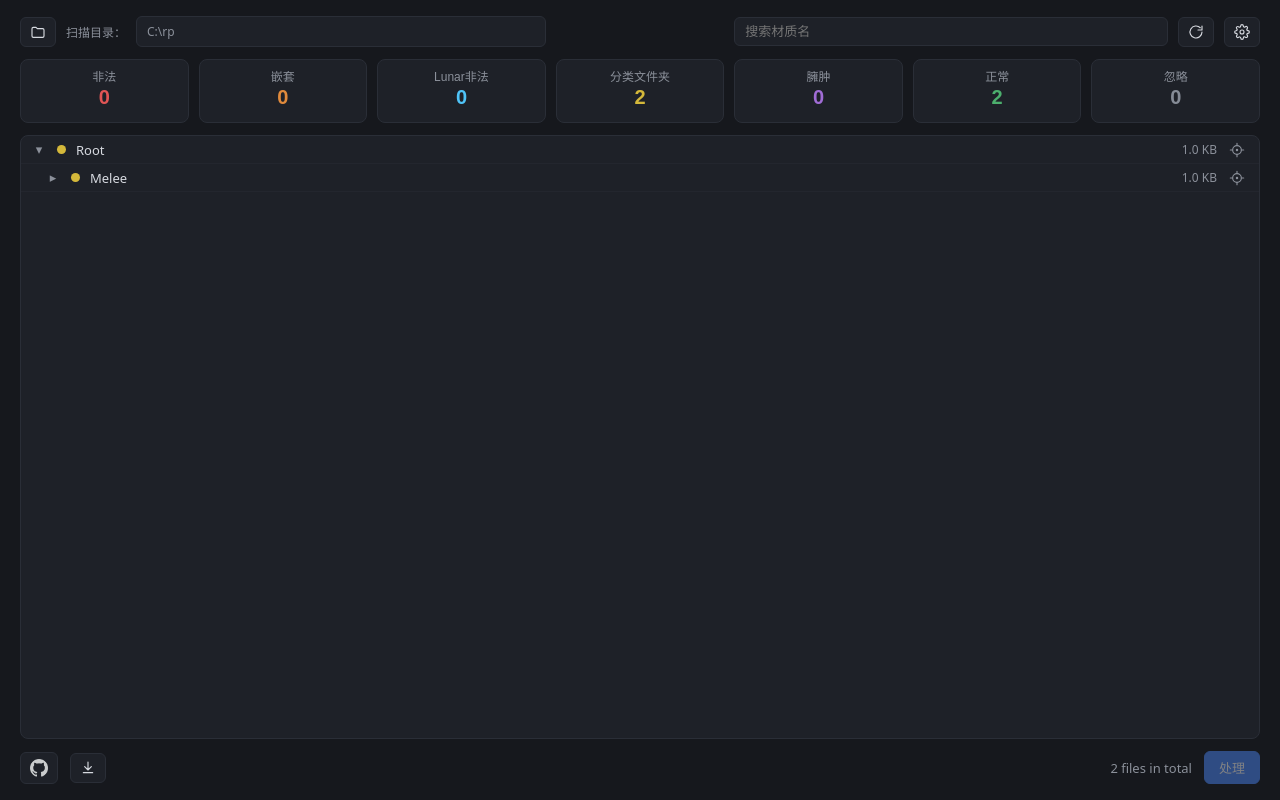
Test: folder expansion survives view filters and resets after a rescan
The image size is (1280, 800).
Expected: the text "Melee" is shown, 90,168 -> 127,186
Click the button named "展开 Melee".
click(53, 178)  # box 45,170 -> 61,185
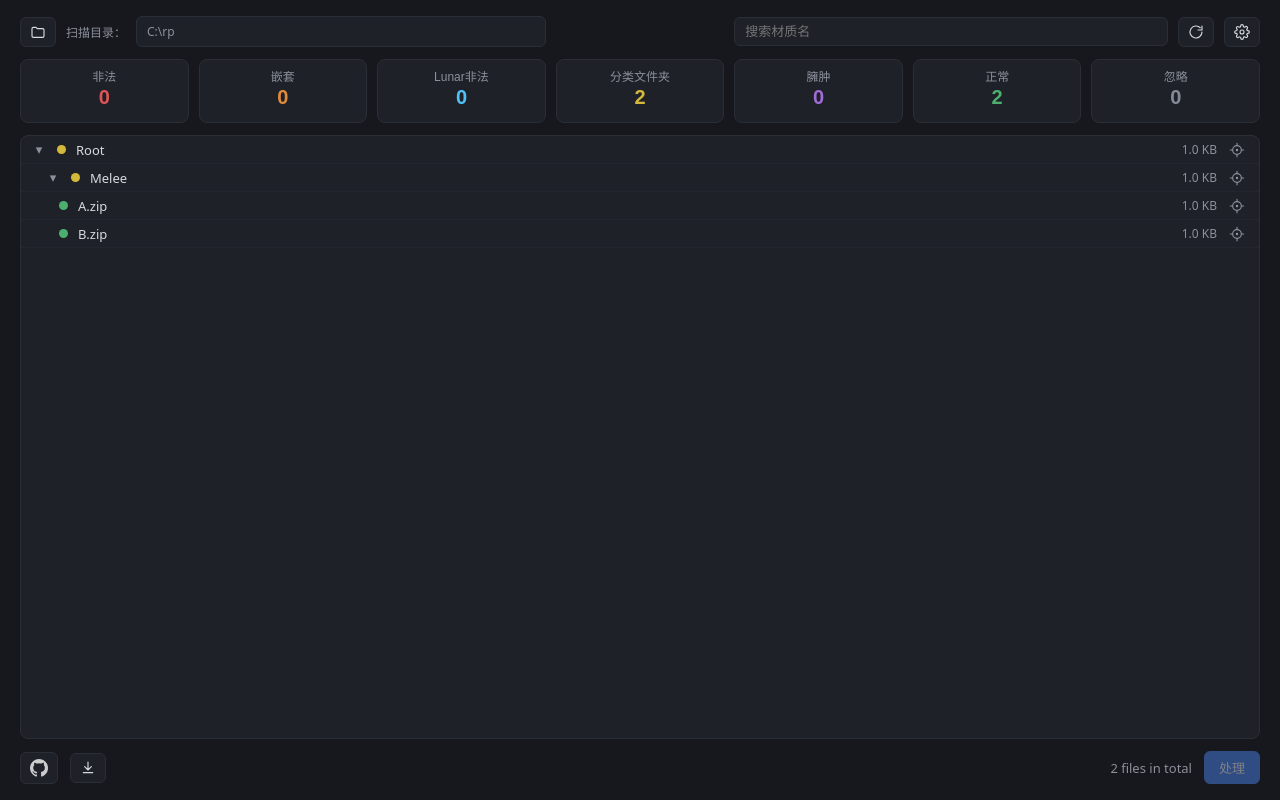
Expected: the text "A.zip" is shown, 78,196 -> 107,214
Click the button "正常 2".
click(997, 91)  # box 913,59 -> 1082,123
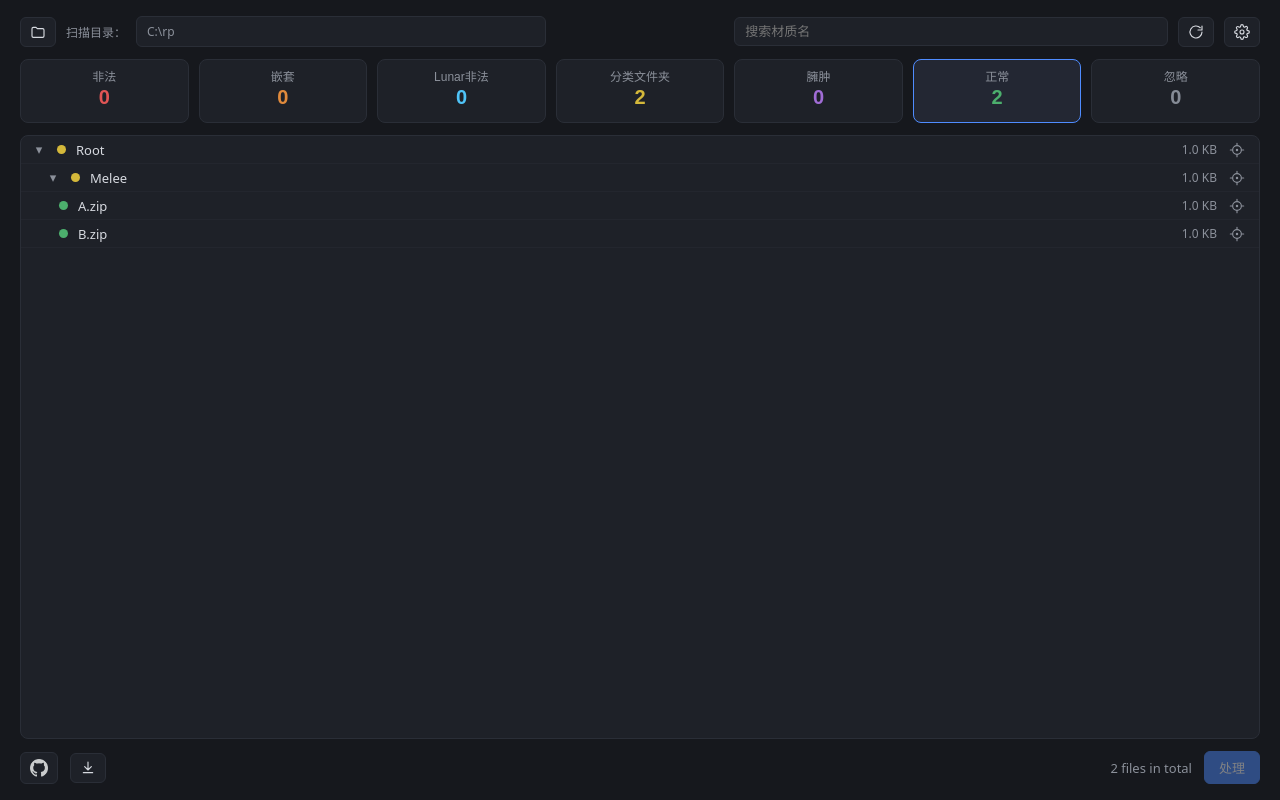
Click the button "正常 2".
click(997, 91)  # box 913,59 -> 1082,123
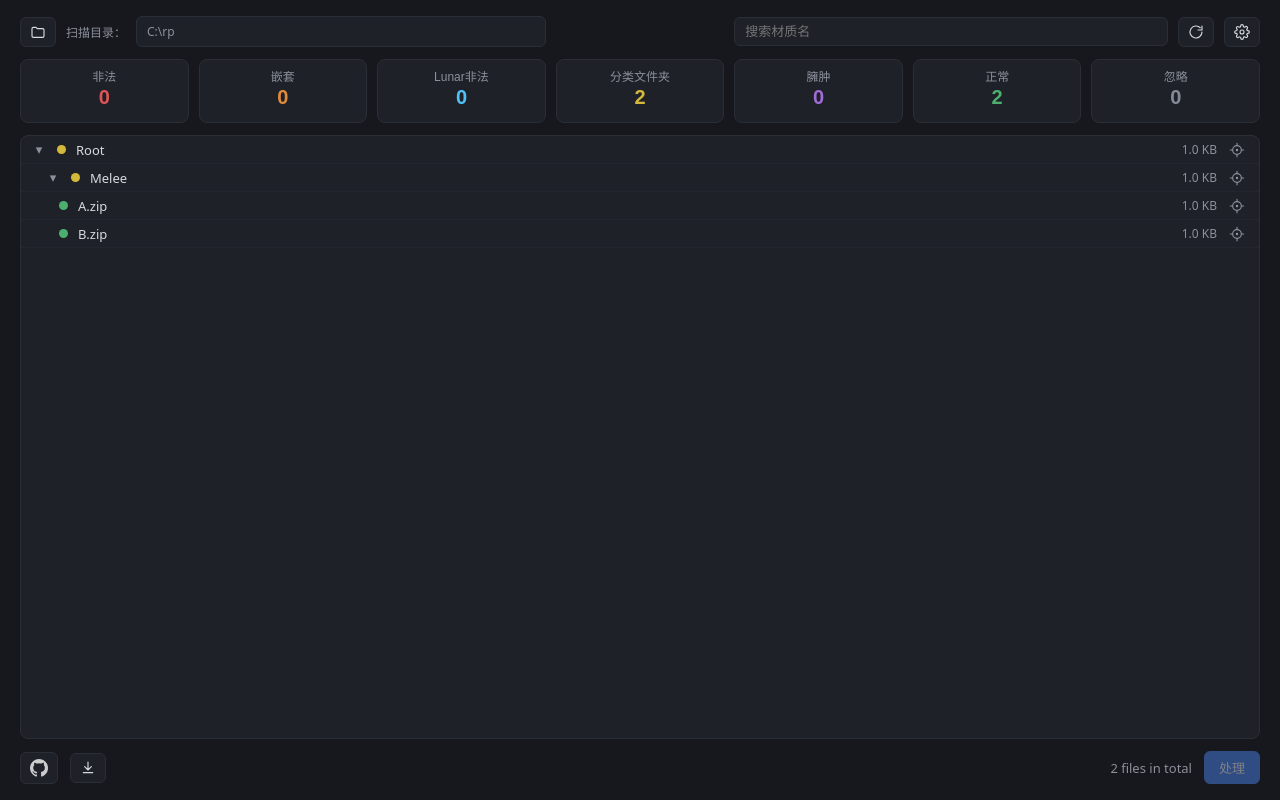
Expected: the text "A.zip" is shown, 78,196 -> 107,214
Click the button named "重新扫描".
click(1196, 32)  # box 1178,16 -> 1214,46
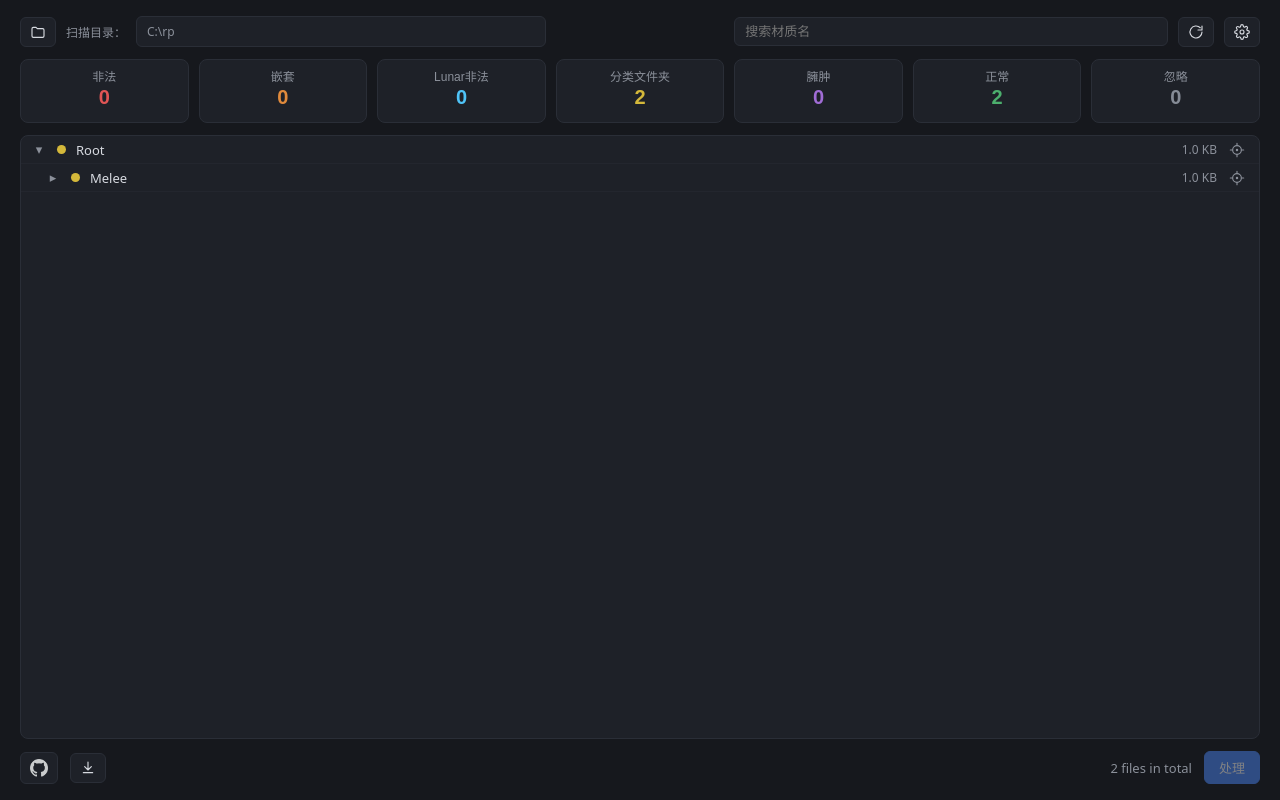
Expected: the text "A.zip" is gone
Expected: the button named "展开 Melee" is shown, 45,170 -> 61,185
